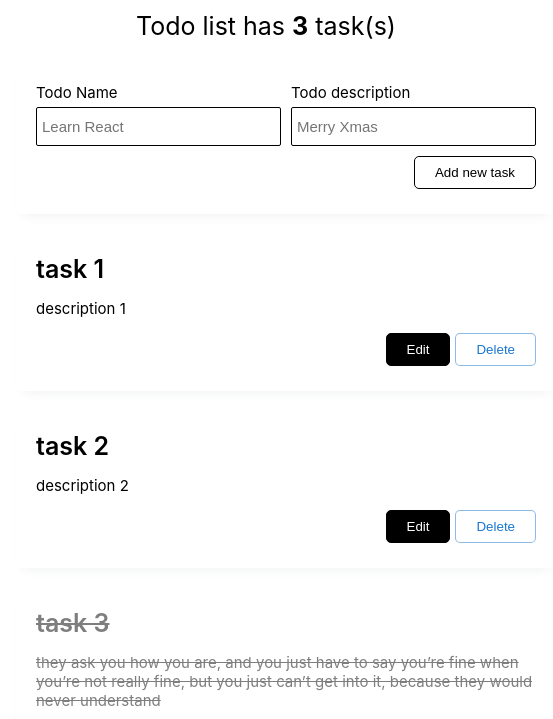
Тестирование основного функционала › edit todo
Step 1. Click the button with test id "edit_todo_button" below "description 1" → (418, 349), box [386,332,450,366]
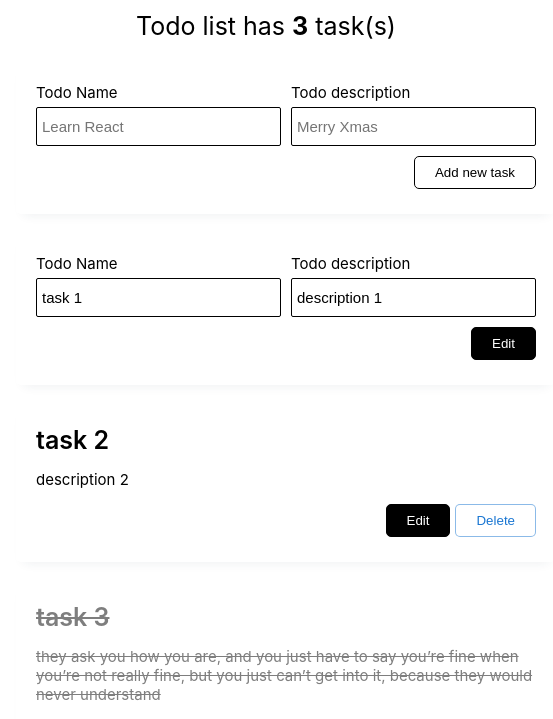
Now the element with test id "todo_item_edit_panel" is shown, box [16,228,516,384]
Now the field with test id "edit_todo_name" is shown
Now the field with test id "edit_todo_desc" holds "description 1", box [291,278,536,316]
Step 2. Replace the text in the field with test id "edit_todo_name" with "test123" → (158, 297), box [36,278,281,316]
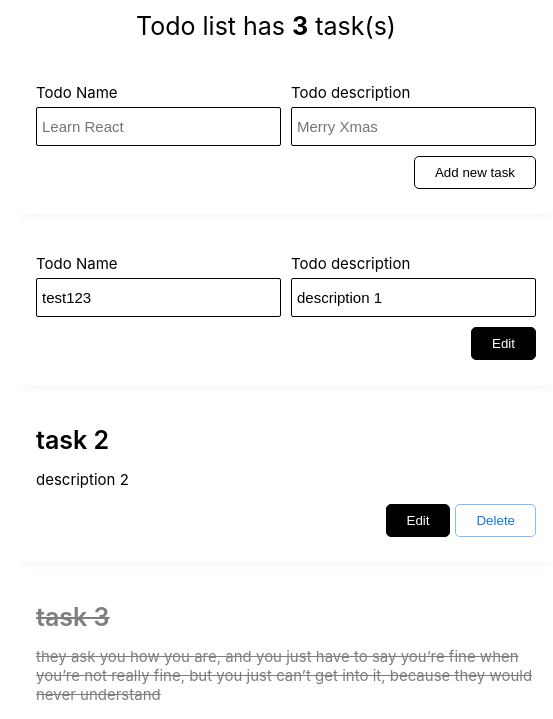
Step 3. Replace the text in the field with test id "edit_todo_desc" with "test321" → (414, 297), box [291,278,536,316]
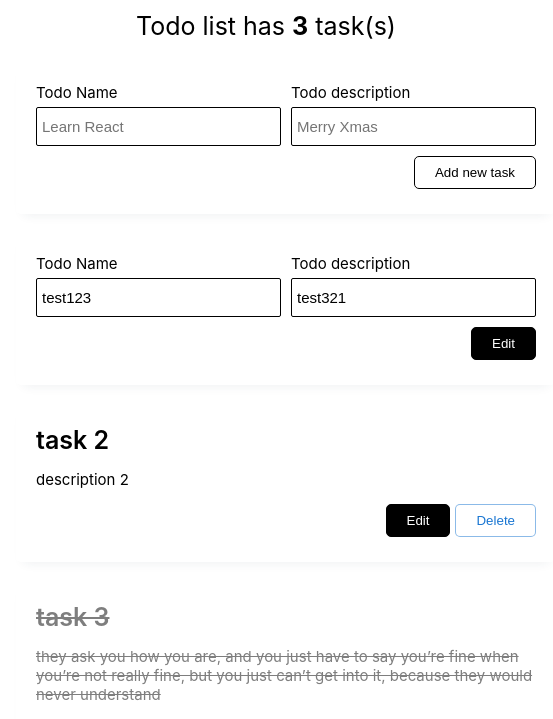
Step 4. Click the 1st button with test id "edit_todo_button" → (504, 343), box [471,326,536,360]
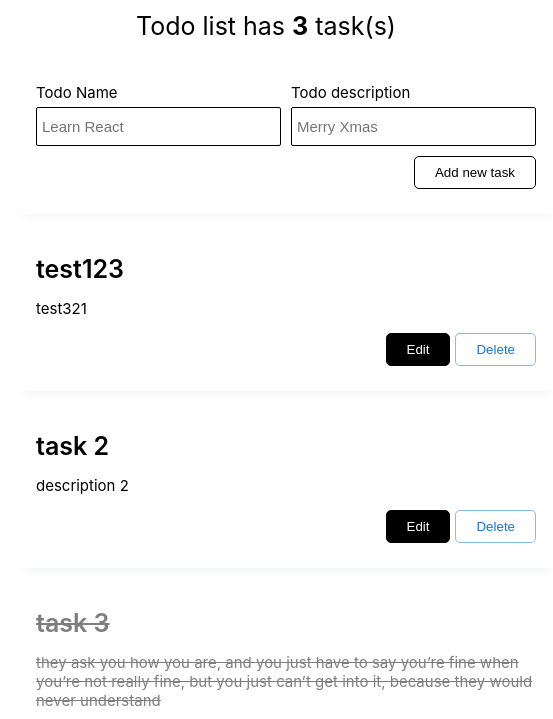
Now the text "test123" is shown, box [36,254,124,284]
Now the text "test321" is shown, box [36,298,87,318]
